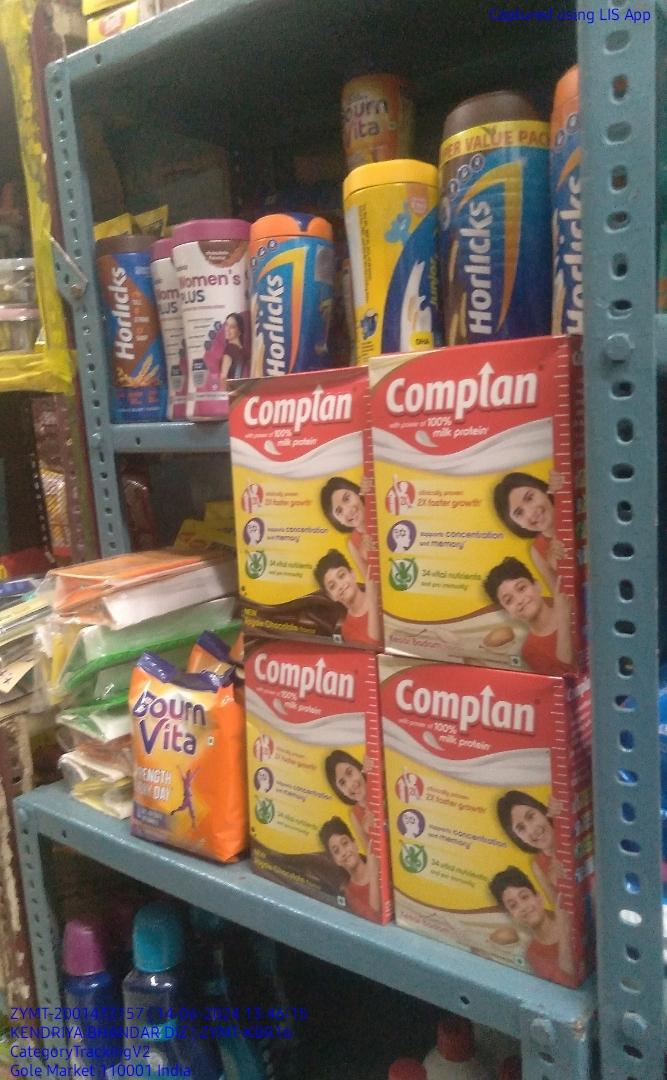BOURN_VITA_500_G_POUCH: (134, 658, 237, 862)
COMPLAN_CHOCOLATE_500_GMS_PACK: (234, 387, 369, 640), (247, 657, 370, 912)
COMPLAN_KESAR_BADAM_500_GMS_PACK: (376, 354, 570, 665), (386, 681, 576, 979)
HORLICK_CHOCOLATE_500_G_JAR: (100, 239, 159, 424)
HORLICK_CLASSIC_MALT_500_G_JAR: (248, 217, 329, 374)
